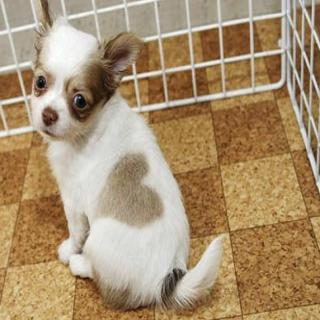dog: (24, 0, 143, 141)
nose: (40, 106, 58, 127)
